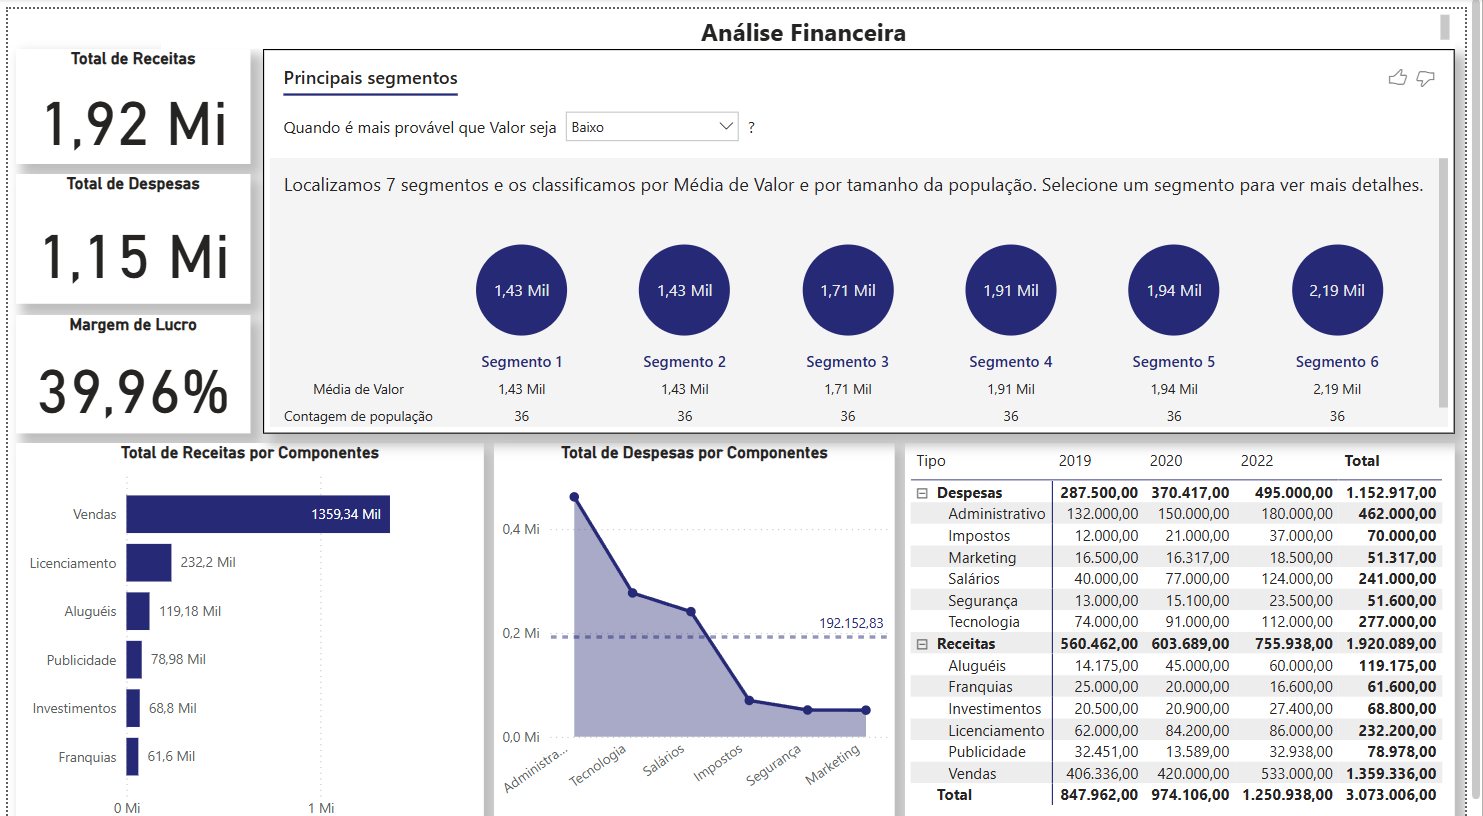

Layout of this report page (visuals, bound fields, positions):
{"tool":"powerbi","page":{"name":"Página 1","canvas":[1280,720],"ordinal":0},"visuals":[{"type":"card","title":"Total de Receitas","fields":{"Values":["MedidasIndicadoresFinanceiros.TotalReceitas"]},"box":[7,35,206,101],"z":0},{"type":"card","title":"Total de Despesas","fields":{"Values":["MedidasIndicadoresFinanceiros.TotalDespesas"]},"box":[7,145,206,114],"z":1000},{"type":"card","title":"Margem de Lucro","fields":{"Values":["MedidasIndicadoresFinanceiros.MargemLucro"]},"box":[7,269,206,104],"z":2000},{"type":"clusteredBarChart","title":"Total de Receitas por Componentes","fields":{"Y":["MedidasIndicadoresFinanceiros.TotalReceitas"],"Category":["DadosFinanceiros.Componente"]},"box":[7,381.3,411.1,339.1],"z":2001},{"type":"lineChart","title":"Total de Despesas por Componentes","fields":{"Y":["MedidasIndicadoresFinanceiros.TotalDespesas"],"Category":["DadosFinanceiros.Componente"]},"box":[427,381.3,352.3,339.1],"z":2002},{"type":"pivotTable","fields":{"Rows":["DadosFinanceiros.Tipo","DadosFinanceiros.Componente"],"Values":["Sum(DadosFinanceiros.Valor)"],"Columns":["DadosFinanceiros.Data.Variation.Hierarquia de datas.Ano"]},"box":[788,381.3,483.2,339.1],"z":2003},{"type":"keyDriversVisual","fields":{"Target":["DadosFinanceiros.Valor"],"ExplainBy":["DadosFinanceiros.Tipo","DadosFinanceiros.Componente"]},"box":[224,35.1,1047.2,338.2],"z":2004}]}

Visuals, with their boxes in screenshot pixels (x1, y1, x2, y2), scaled from the page's 1280x720 canvas onto the 1483x816 screenshot:
"Total de Receitas" card: detection(8, 40, 247, 154)
"Total de Despesas" card: detection(8, 164, 247, 294)
"Margem de Lucro" card: detection(8, 305, 247, 423)
"Total de Receitas por Componentes" clusteredBarChart: detection(8, 432, 484, 815)
"Total de Despesas por Componentes" lineChart: detection(495, 432, 903, 815)
pivotTable - DadosFinanceiros.Tipo x DadosFinanceiros.Componente: detection(913, 432, 1473, 815)
keyDriversVisual - DadosFinanceiros.Valor x DadosFinanceiros.Tipo: detection(260, 40, 1473, 423)
